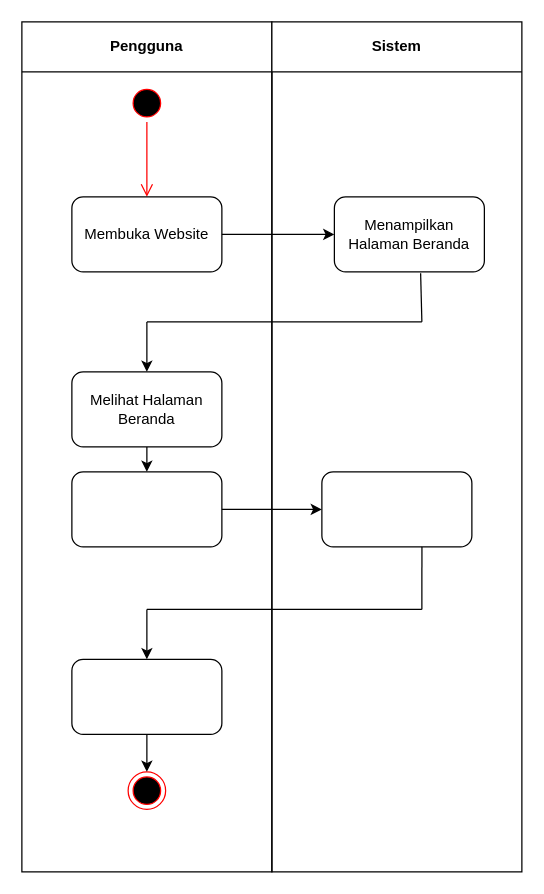
Some shapes in this 544 by 894 pixel diagram are drawn without their labels. Here are the shapes that lost their labels. From the top down, the centre of each, then its label:
the point at 146,509: Memilih Menu Login
the point at 396,509: Menampilkan Halaman Login
the point at 146,696: Melihat Halaman Login
